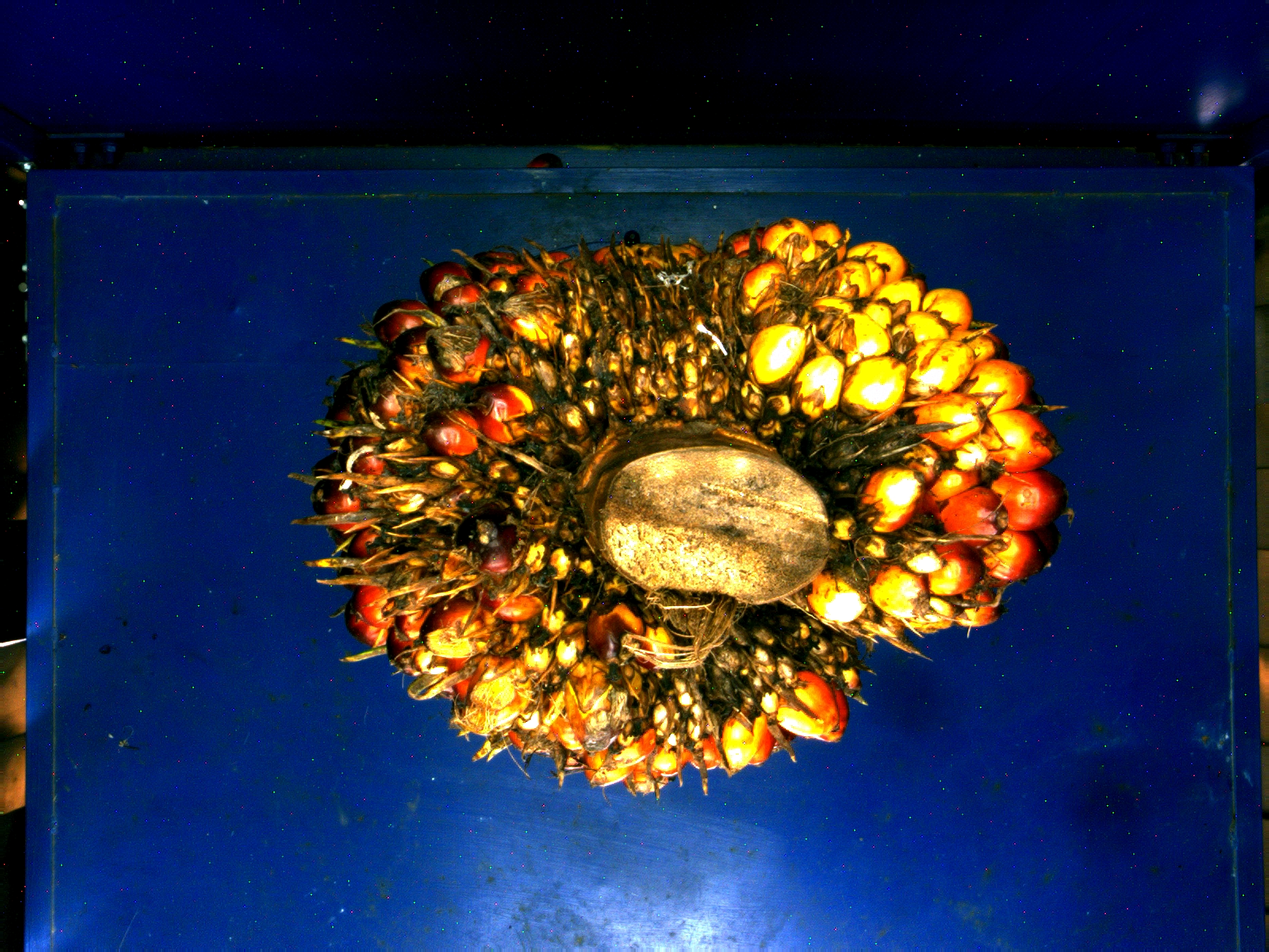fruitlet: (1006, 432, 1038, 464), (854, 337, 886, 369), (869, 230, 901, 262), (773, 223, 805, 255), (754, 337, 786, 369), (812, 371, 844, 403), (865, 379, 897, 411), (882, 477, 914, 509), (911, 442, 943, 474), (938, 463, 970, 495), (951, 503, 983, 535), (1008, 547, 1040, 579), (829, 587, 861, 619), (924, 599, 956, 631), (803, 679, 835, 711), (825, 715, 857, 747), (686, 740, 718, 772), (587, 762, 619, 794), (555, 731, 587, 763), (608, 625, 640, 657), (431, 610, 463, 642), (342, 530, 374, 562), (314, 488, 346, 520), (355, 451, 387, 483), (478, 522, 510, 554), (491, 268, 523, 300), (526, 272, 558, 304), (548, 238, 580, 270), (539, 545, 571, 577), (829, 515, 861, 547), (857, 526, 889, 558), (1018, 486, 1049, 518), (990, 366, 1022, 397), (949, 287, 980, 319), (913, 324, 945, 355), (883, 284, 914, 316), (805, 221, 837, 252), (883, 585, 914, 617), (977, 604, 1009, 635), (723, 731, 754, 763), (647, 746, 679, 777), (623, 783, 654, 815), (619, 730, 650, 762), (575, 704, 607, 735), (485, 689, 517, 720), (504, 598, 535, 630), (416, 651, 447, 683), (349, 608, 381, 639), (438, 412, 470, 443), (492, 392, 523, 424), (377, 392, 408, 424), (404, 345, 435, 377), (381, 307, 412, 339), (435, 264, 466, 296), (450, 293, 482, 324), (485, 249, 516, 281), (453, 336, 485, 367), (558, 627, 590, 658), (519, 639, 551, 670), (929, 355, 960, 386), (841, 271, 872, 302), (750, 267, 781, 298), (949, 559, 980, 590)
